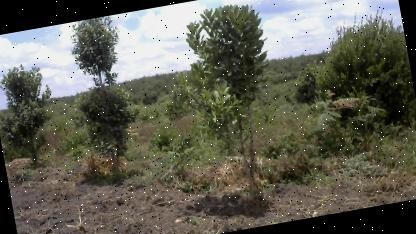tree: (178, 0, 294, 203), (60, 14, 149, 187), (0, 57, 67, 177)
